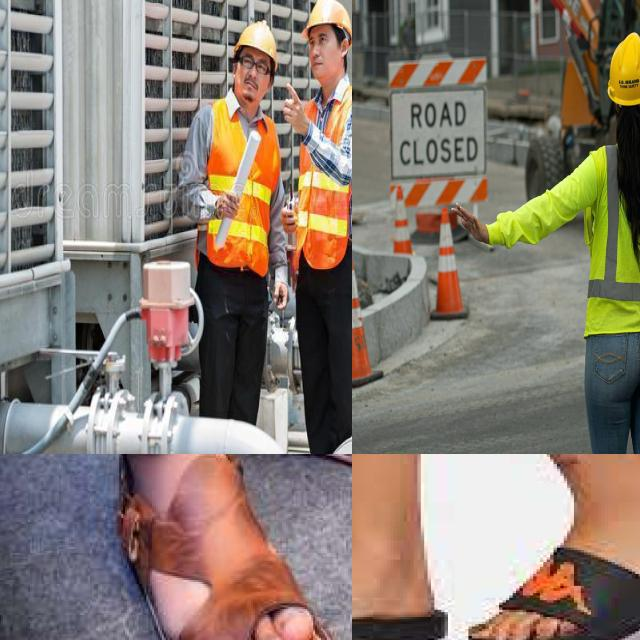No_Ear-Protection: (340, 36, 350, 59)
No_Glasses: (306, 29, 331, 52)
Sandals: (115, 454, 338, 640), (465, 491, 640, 640), (352, 552, 449, 640)
face_nomask: (231, 44, 273, 102), (308, 30, 344, 84)
glasses: (238, 54, 270, 80)
hand_noglove: (448, 190, 507, 256), (280, 87, 309, 153), (270, 266, 291, 318), (220, 183, 240, 231)
head_helmet: (602, 35, 640, 107), (291, 0, 352, 44), (230, 19, 278, 71)
person: (196, 19, 284, 420), (288, 0, 352, 422), (577, 35, 640, 454)
vest: (199, 104, 291, 270), (586, 142, 640, 369), (294, 85, 352, 260)
